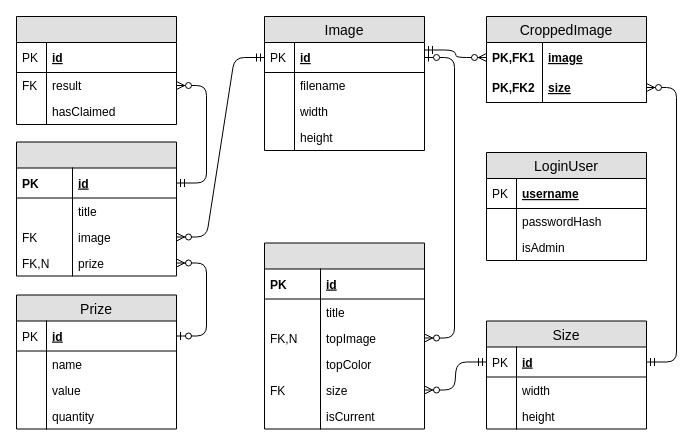
This 693x445 diagram has some shape labels left out. Here are the shapes that lost their labels. From the top down, the box of each, then its label:
(16, 16, 176, 124): Participant
(16, 141, 176, 276): CardResult
(264, 242, 424, 429): CardTemplate
